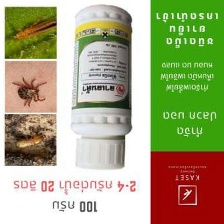insecticide: (65, 1, 134, 172)
